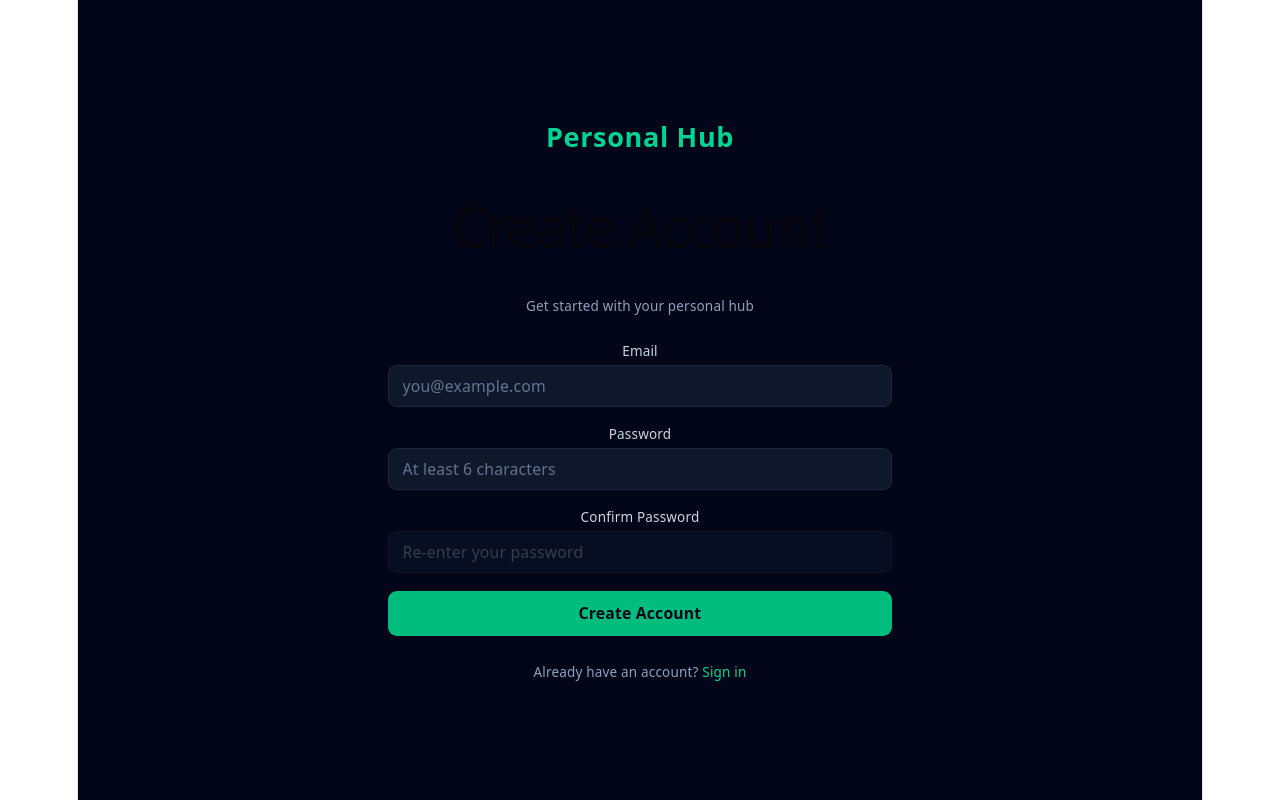
Scenario: RegisterPage component › displays inline error when password confirmation does not match
Type "user@test.com" into the field labelled "Email".
click(640, 386); type("user@test.com")  # box [388,365,892,407]
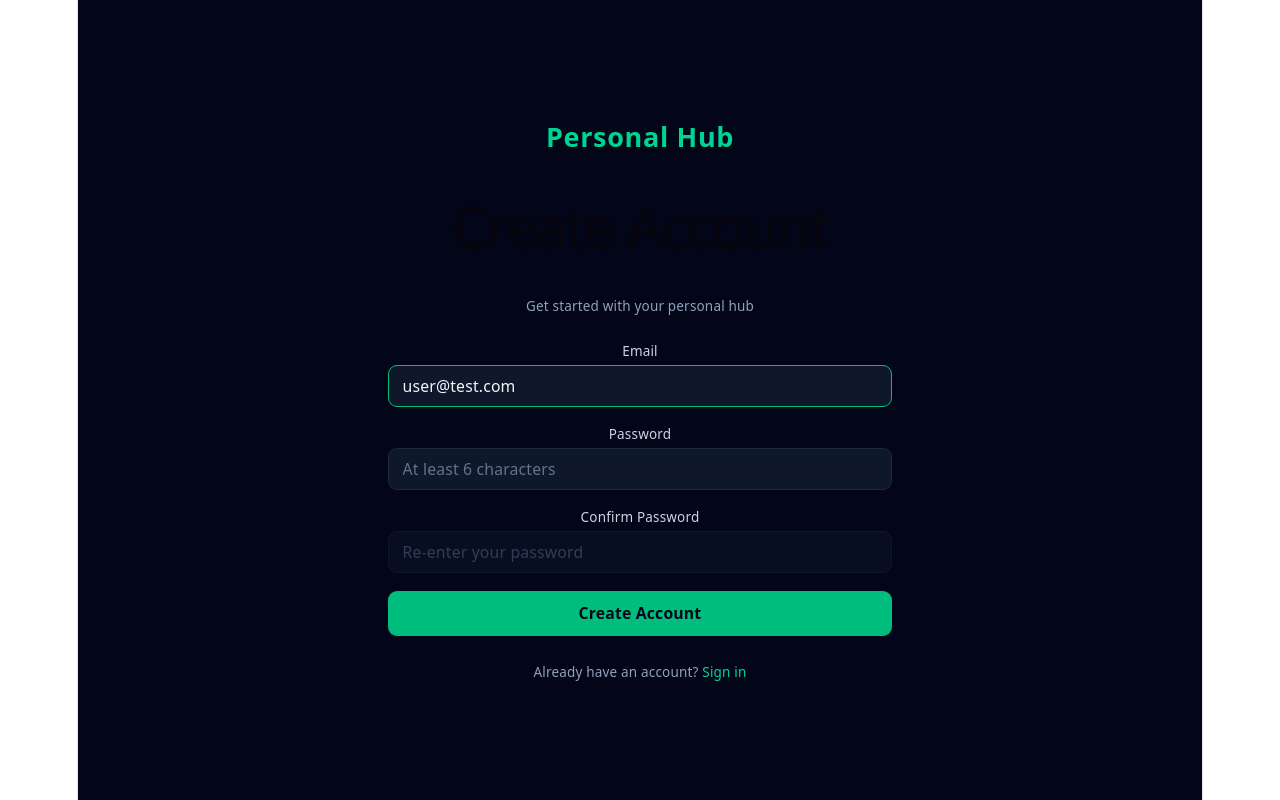
Type "password123" into the password field labelled "Password".
click(640, 469); type("password123")  # box [388,448,892,490]
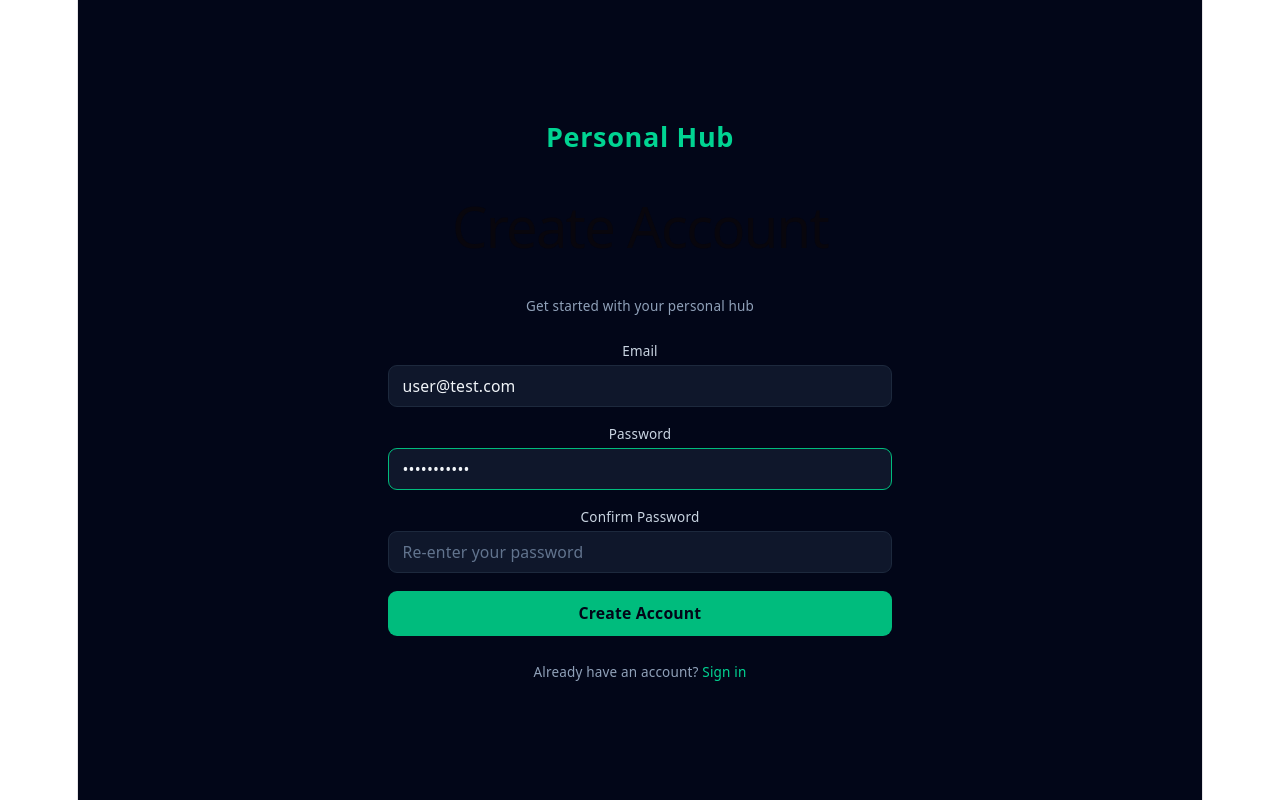
Type "different123" into the password field labelled "Confirm Password".
click(640, 552); type("different123")  # box [388,531,892,573]
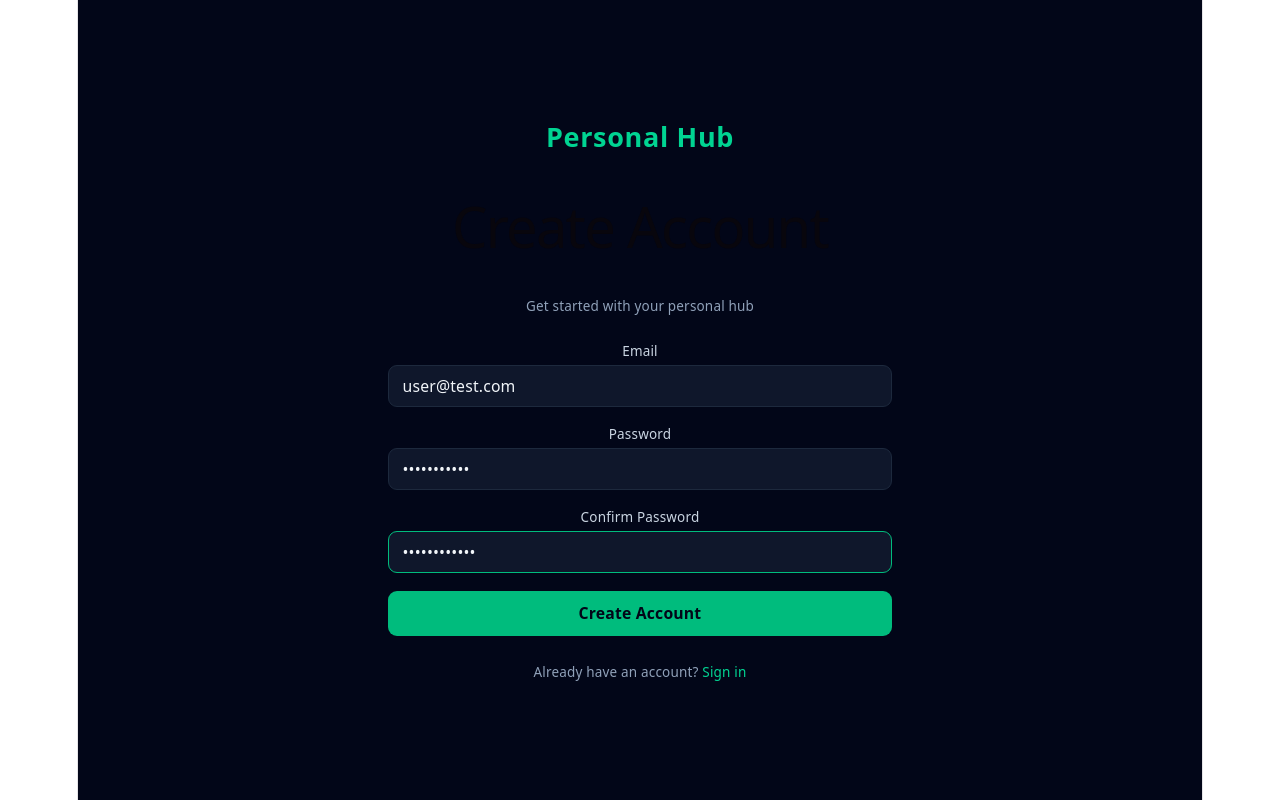
Click the button "Create Account".
click(640, 614)  # box [388,591,892,636]
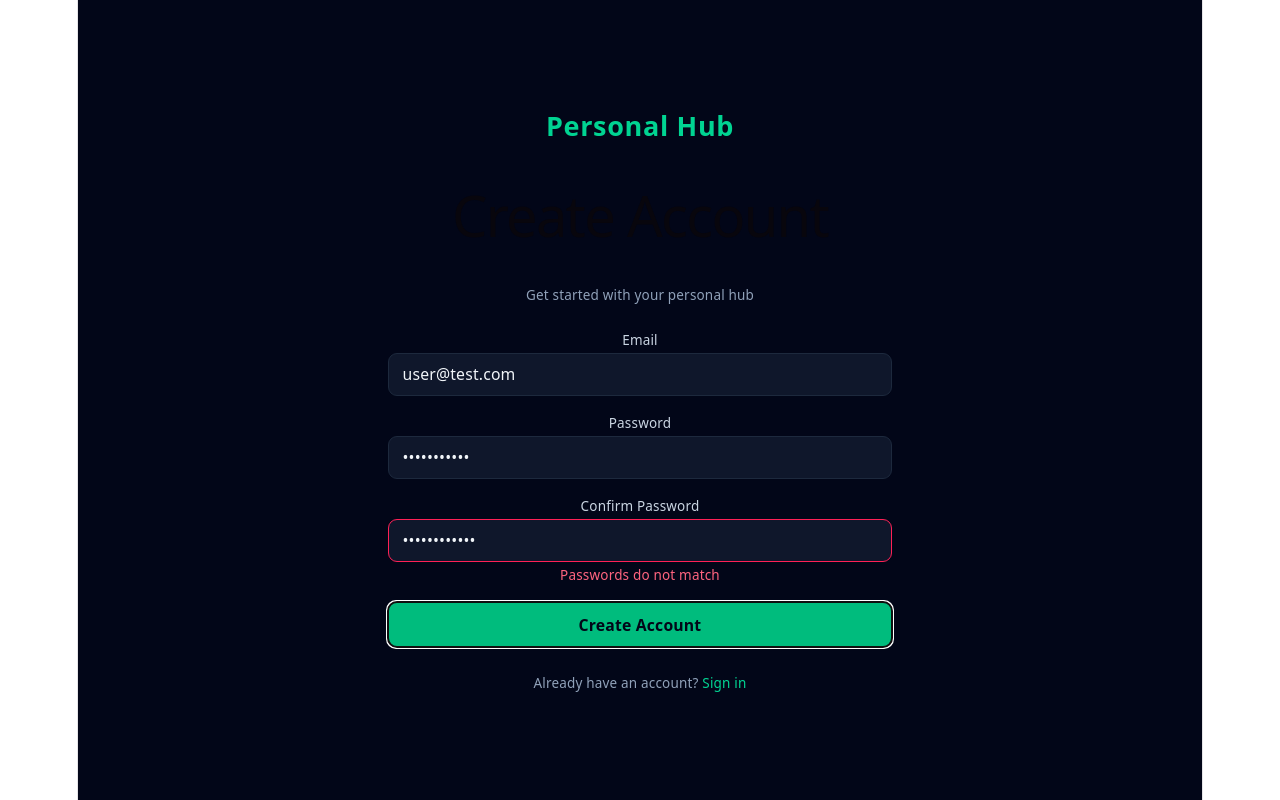
Now the text "Passwords do not match" is shown, box [560,566,720,584]
